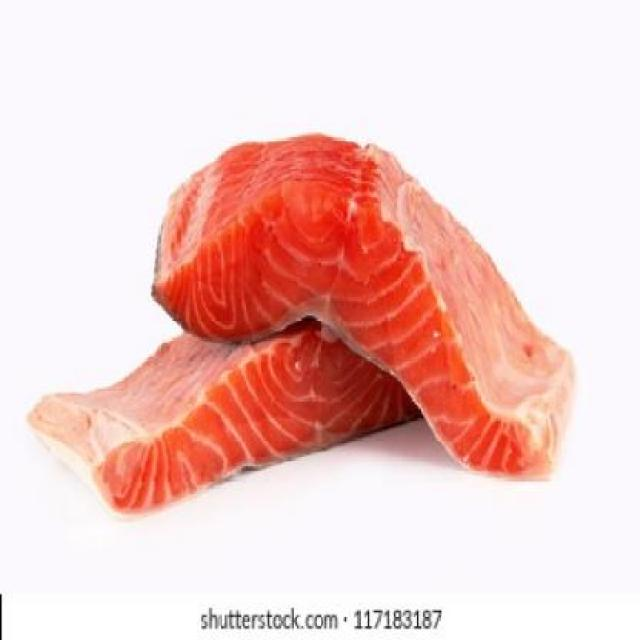salmon: (135, 109, 600, 498), (25, 246, 586, 516)
